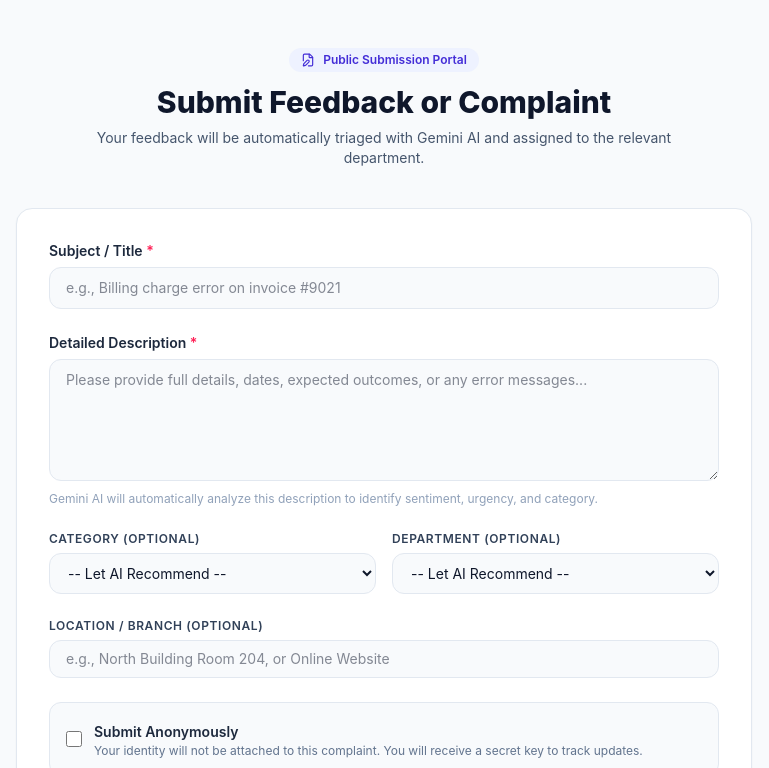
Test: PublicSubmitPage Component › validates minimum length for title and description
Type "Hi" into the field with placeholder "e.g., Billing charge error on invoice #9021" at (384, 288), box 49,267 -> 719,309
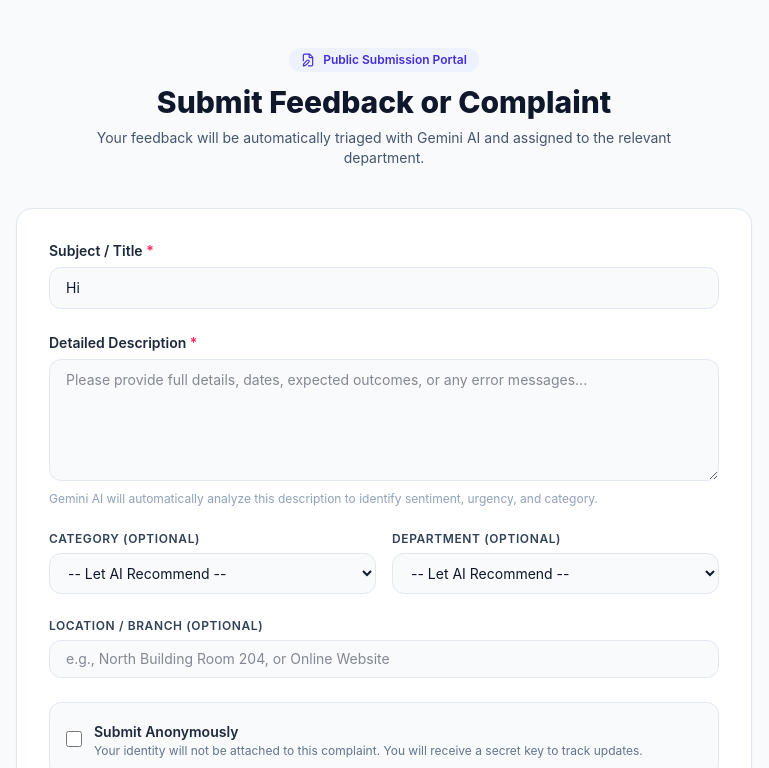
Replace the text in the text box with placeholder "Please provide full details" with "Short" at (384, 420), box 49,359 -> 719,481
(page scrolled)
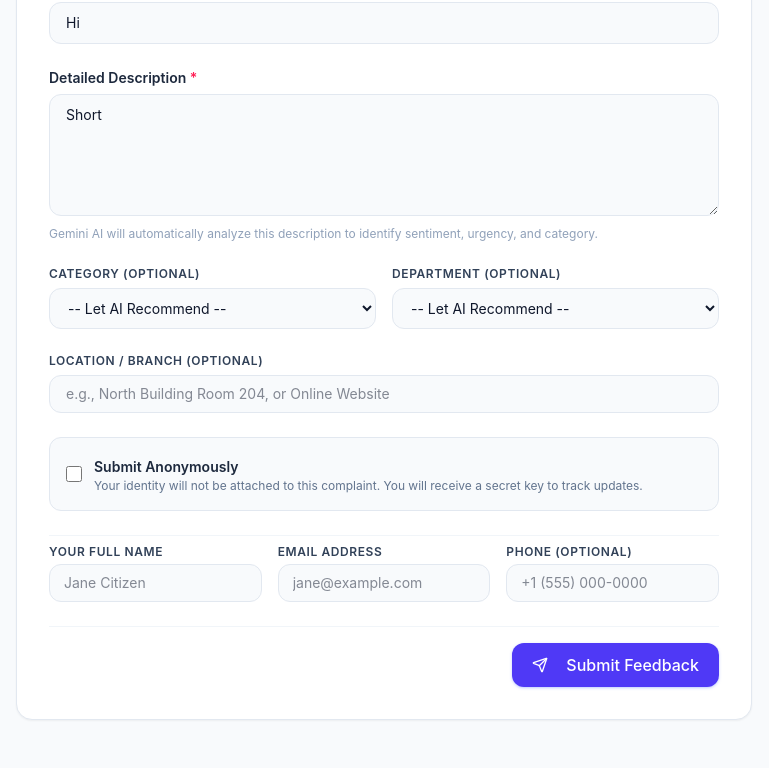
Click the button "Submit Feedback" at (616, 665), box 512,643 -> 719,687
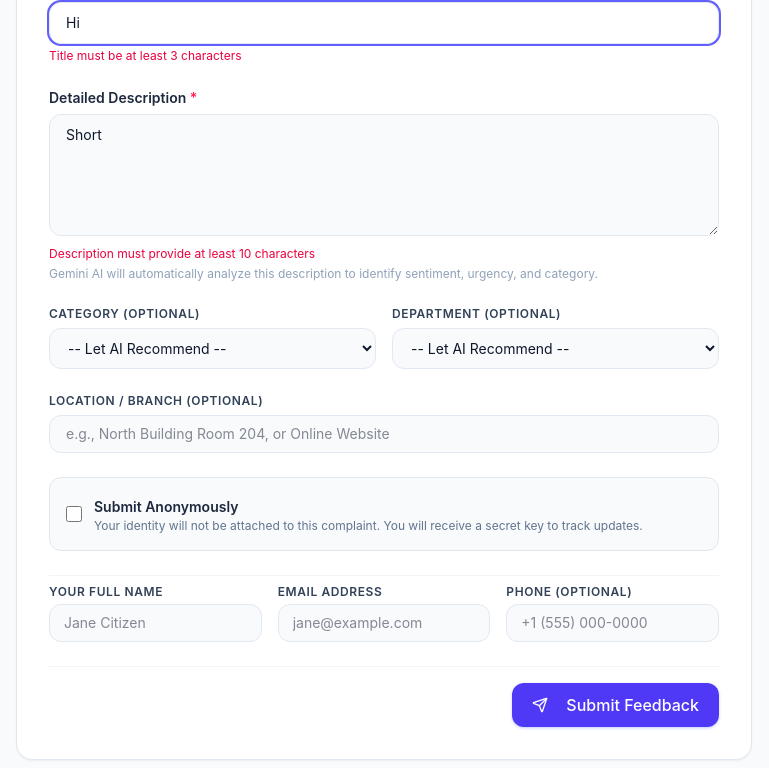
Expected: the text "Title must be at least 3 characters" is shown, 49,48 -> 242,63
Expected: the text "Description must provide at least 10 characters" is shown, 49,246 -> 315,261
